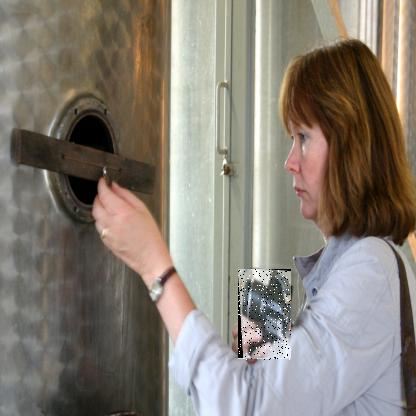Camera: (240, 271, 294, 363)
